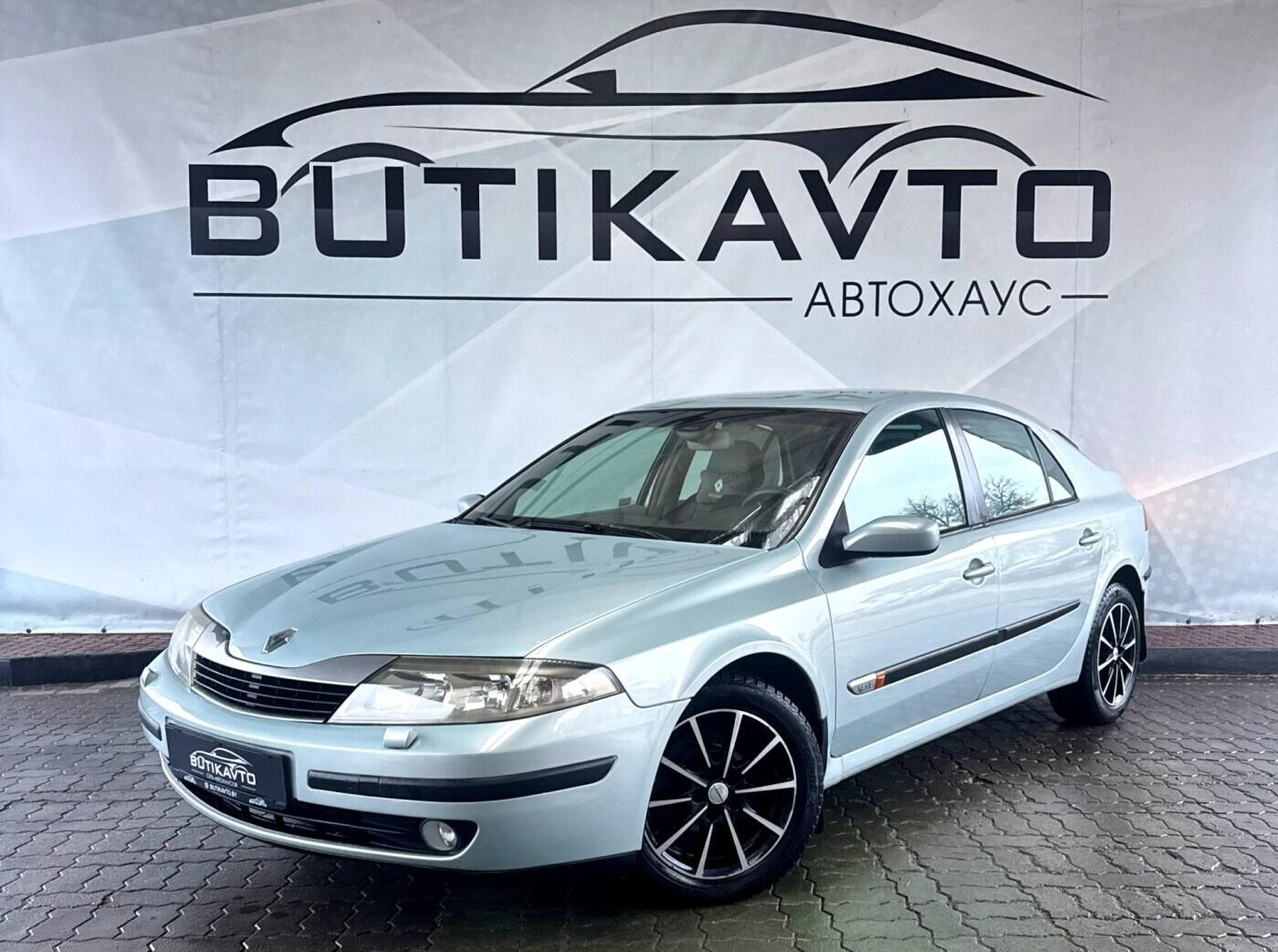Laguna_2001-2005: (138, 390, 1150, 901)
